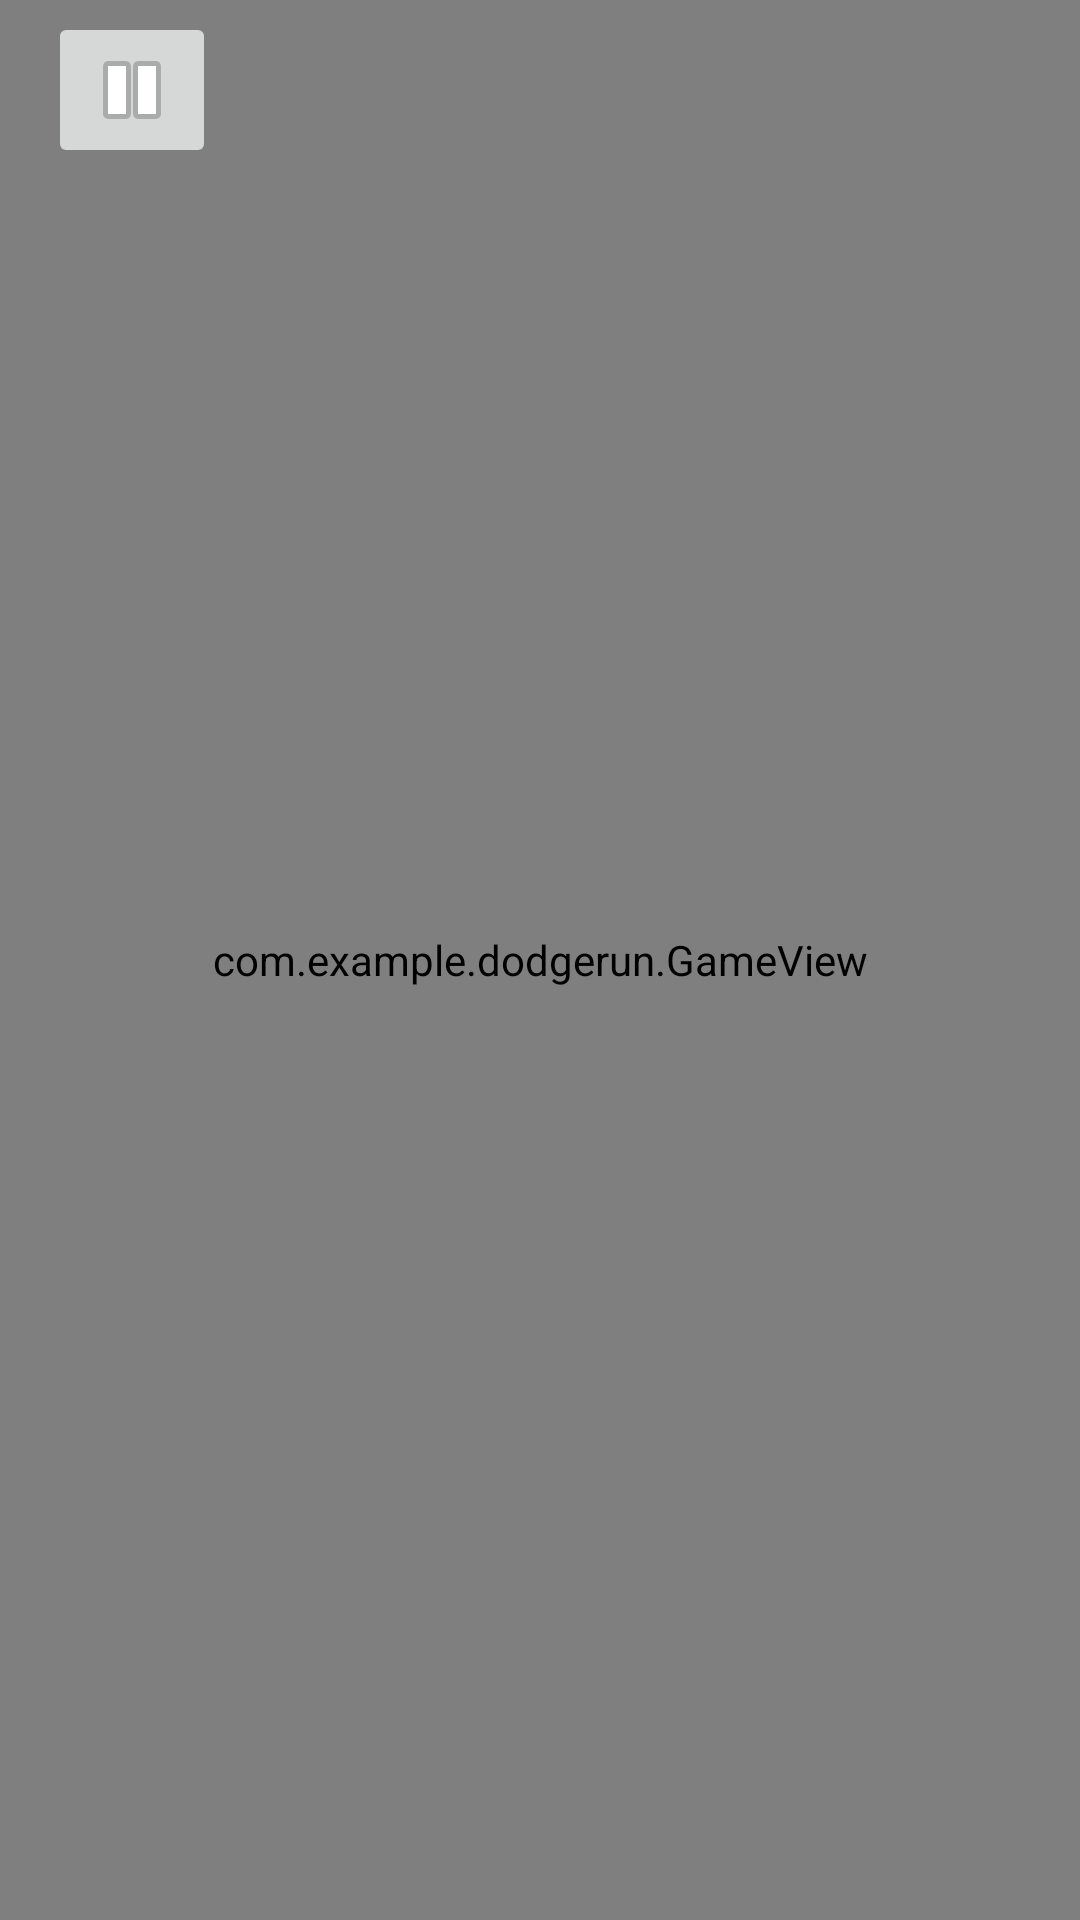

Where to tap for icons on this 1080 x 1920 app screen, as (x=x, y=y):
pause: (x=132, y=90)
